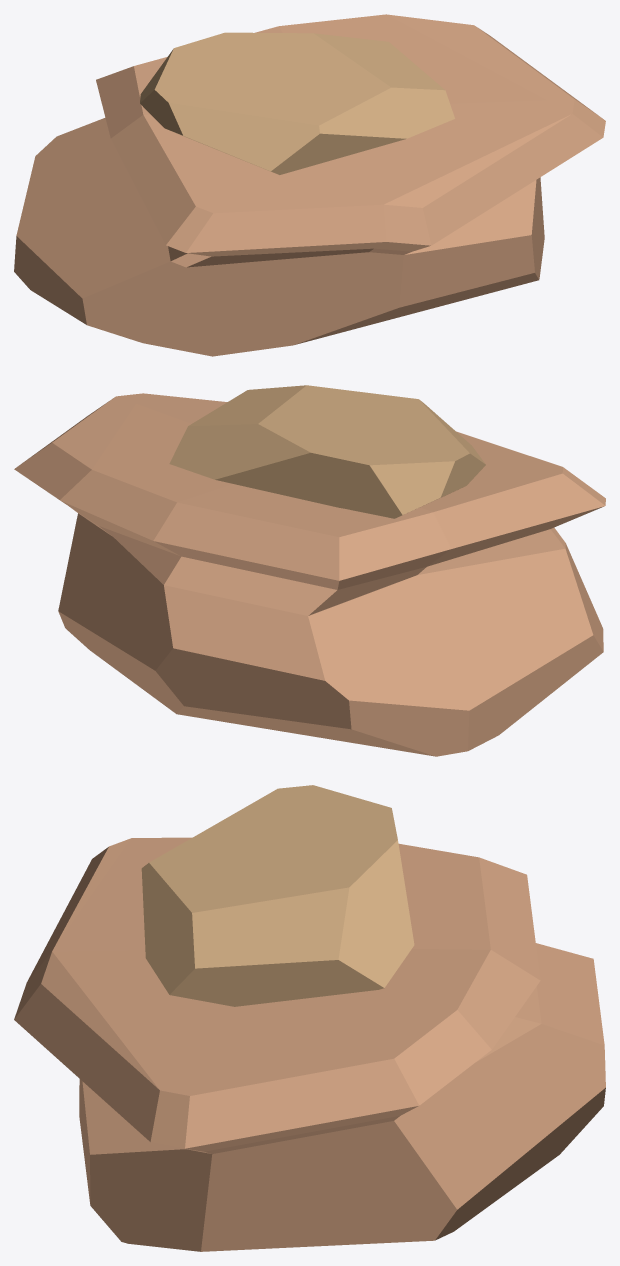
The model's file is Rock_Flat_l_02.fbx.
The picture shows the model from 3 angles, top to bottom: view 1: azimuth 30°, elevation 25°; view 2: azimuth 150°, elevation 25°; view 3: azimuth 270°, elevation 25°; orthographic projection. The views are drawn at different scales.
Parts seen in each view (by area): view 1: Rock_Flat_l_02; view 2: Rock_Flat_l_02; view 3: Rock_Flat_l_02.
Part boxes in pixels (<box>): Rock_Flat_l_02: <box>14,14,605,356</box>; Rock_Flat_l_02: <box>14,385,605,756</box>; Rock_Flat_l_02: <box>14,785,605,1251</box>.
Size of the model in its own units: 413 by 170 by 331.
